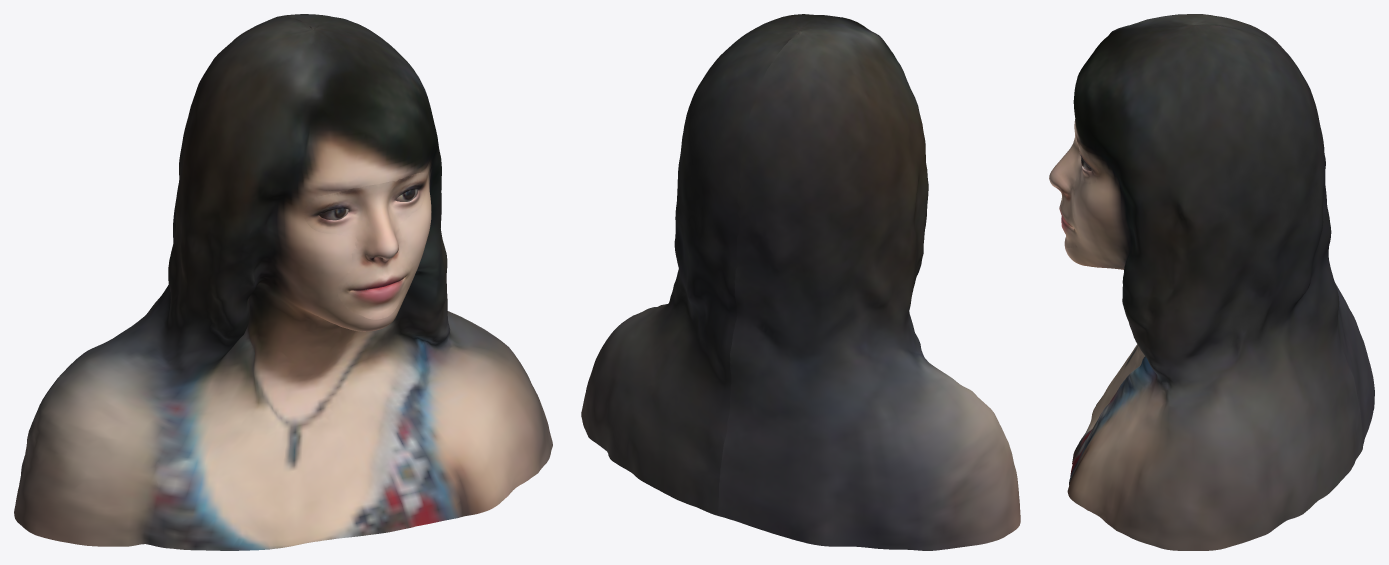
File: MarthaMendoza.gltf
3 renders of one model, left to right at view 1: azimuth 30°, elevation 25°; view 2: azimuth 150°, elevation 25°; view 3: azimuth 270°, elevation 25°, orthographic. The views are drawn at different scales.
Visible parts, largest first — view 1: MarthaMendoza; view 2: MarthaMendoza; view 3: MarthaMendoza.
Part boxes in pixels (left/top/right/bottom): MarthaMendoza: left=14, top=14, right=552, bottom=550; MarthaMendoza: left=581, top=14, right=1020, bottom=550; MarthaMendoza: left=1049, top=14, right=1374, bottom=550.
Bounding box in the file's own units: 8.86 × 7.99 × 5.56.
1 material, 1 textured.
